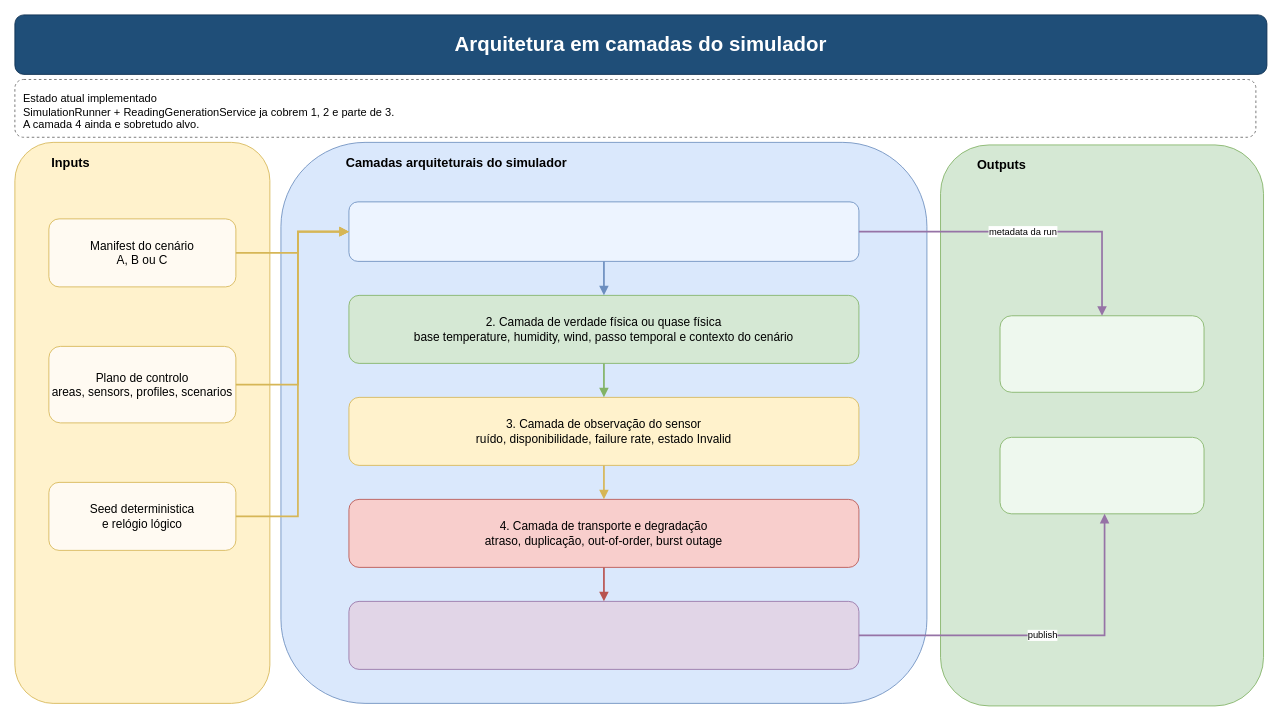
The diagram is 1282 pixels wide and 721 high, and some of its shapes have lost their labels. Each missing label, with the centre of its shape:
1. Resolução de contexto ScenarioContext, área, sensores, perfis, run metadata: point (603, 231)
5. Envelope e publicação EventEnvelope + SensorReadingProduced + routing key: point (603, 635)
RabbitMQ np.events / simulation.reading.produced: point (1101, 475)
SimulationRun event_time, ingest_time, correlation_id: point (1101, 353)
